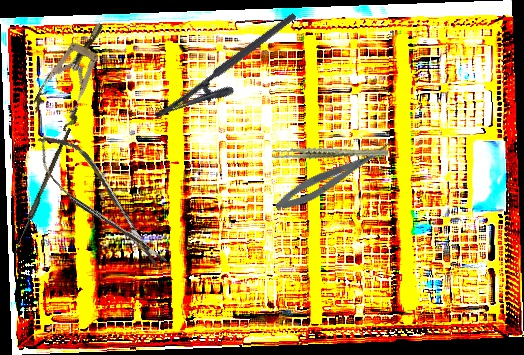Micro Scissor: (26, 121, 176, 284), (271, 138, 397, 217)
Needle Holder: (152, 12, 311, 139)
Speculum: (27, 13, 123, 134)
Surgical Spoon: (13, 126, 72, 252)
Tissue Forceps: (271, 129, 389, 178)
